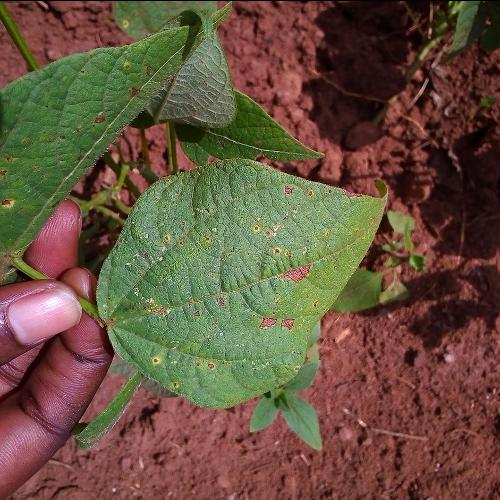hawar: (142, 329, 222, 391), (269, 180, 372, 215), (121, 287, 178, 320), (247, 305, 301, 338), (0, 144, 21, 210), (272, 252, 315, 284), (128, 60, 150, 98), (129, 246, 158, 266), (84, 109, 112, 126)
mozaik: (120, 185, 320, 377)
